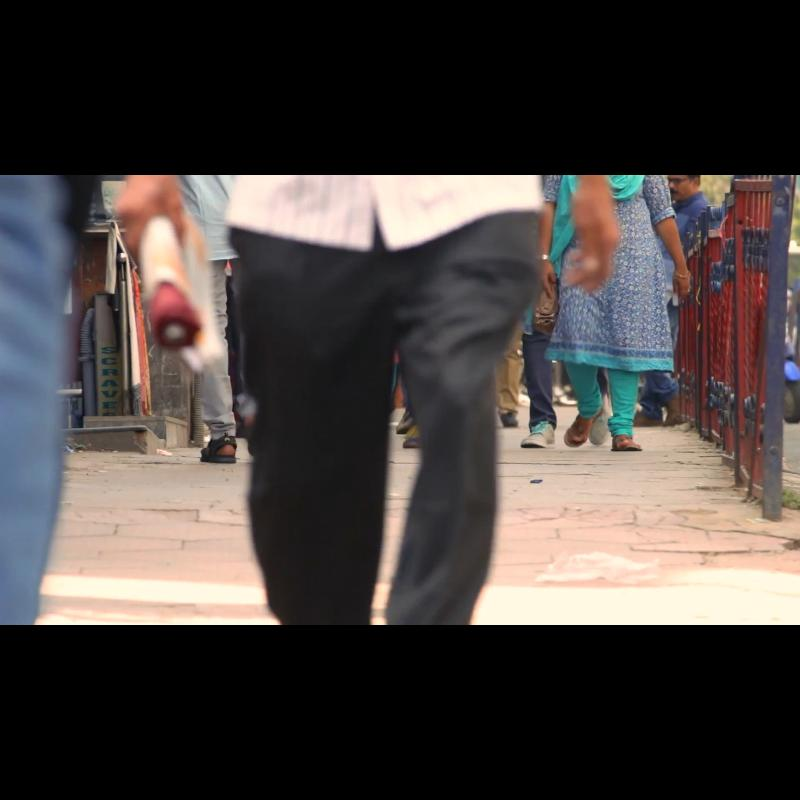Churidaar: (543, 175, 675, 445)
Pant: (208, 217, 548, 625)
